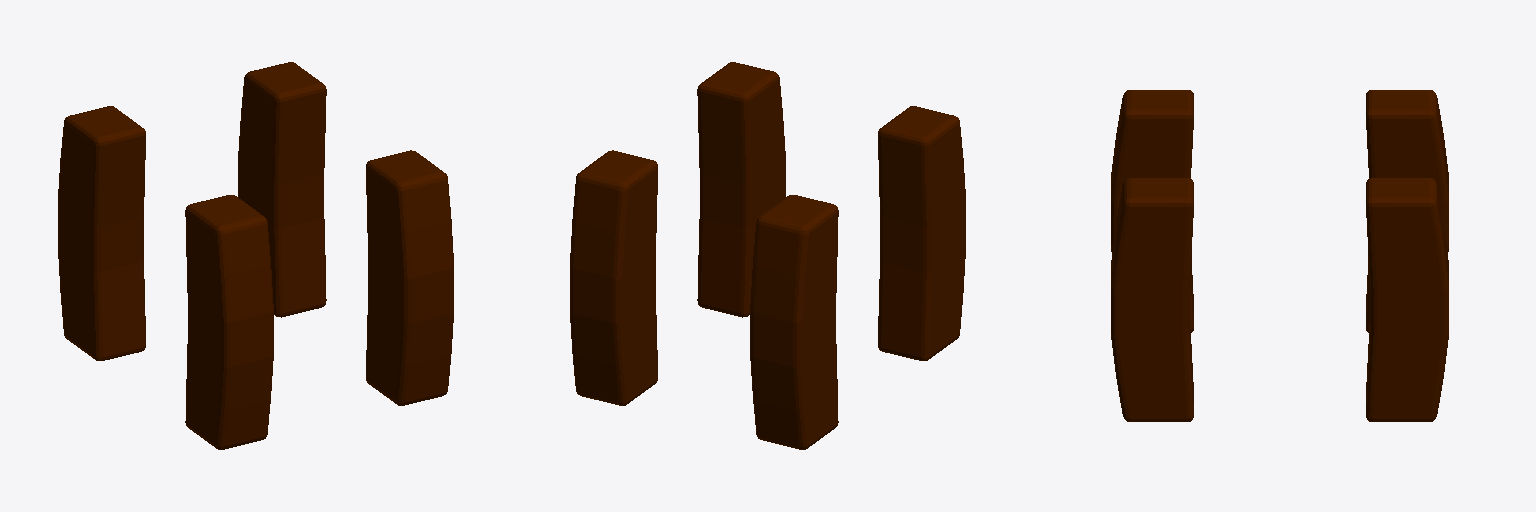
File: BrownLegs.obj
3 renders of one model, left to right at view 1: azimuth 30°, elevation 25°; view 2: azimuth 150°, elevation 25°; view 3: azimuth 270°, elevation 25°, orthographic.
Parts seen in each view (by area): view 1: Brown_Legs_Plane.002; view 2: Brown_Legs_Plane.002; view 3: Brown_Legs_Plane.002.
Part boxes in pixels (bbox=[...]): Brown_Legs_Plane.002: bbox=[58, 62, 453, 449]; Brown_Legs_Plane.002: bbox=[570, 62, 965, 449]; Brown_Legs_Plane.002: bbox=[1111, 90, 1448, 421].
Size of the model in its own units: 0.3954 by 0.3649 by 0.5002.